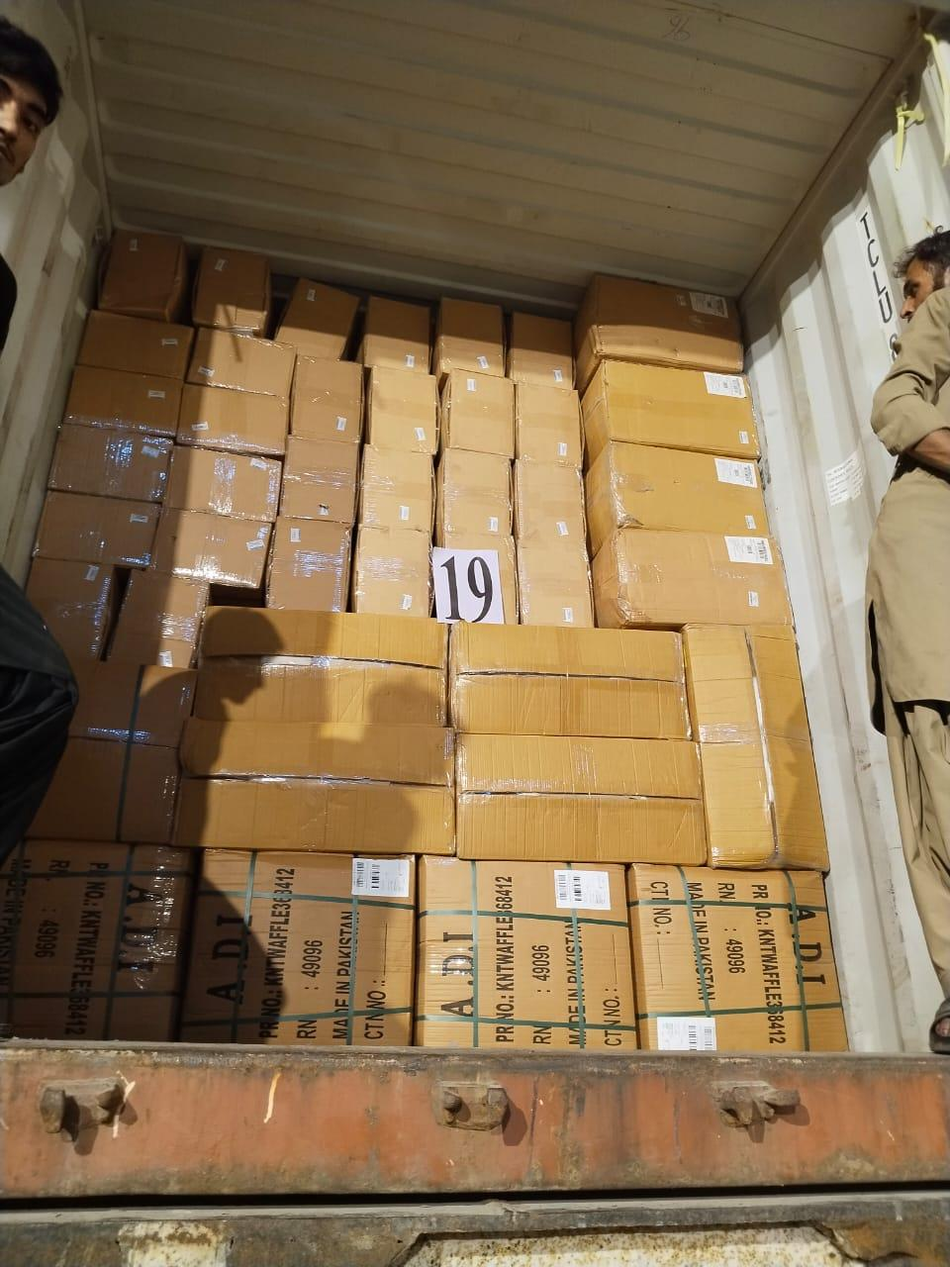carton: (181, 850, 416, 1046), (415, 858, 637, 1051), (627, 864, 847, 1053), (0, 840, 194, 1042), (176, 719, 454, 854), (0, 661, 196, 845), (684, 626, 829, 870), (456, 733, 707, 865), (195, 608, 448, 727), (449, 623, 691, 738), (586, 442, 768, 553), (593, 528, 792, 629), (574, 275, 743, 390), (582, 360, 759, 465), (26, 558, 122, 664), (107, 571, 209, 668), (48, 424, 172, 502), (35, 491, 159, 567), (63, 364, 190, 438), (154, 509, 271, 589), (164, 445, 281, 521), (266, 516, 352, 612), (77, 311, 194, 381), (176, 384, 289, 456), (99, 230, 187, 322), (186, 329, 296, 400), (351, 525, 431, 617), (440, 532, 519, 625), (435, 448, 513, 542), (280, 436, 359, 526), (193, 246, 271, 336), (514, 459, 587, 554), (358, 444, 434, 535), (517, 539, 594, 628), (439, 369, 515, 459), (276, 279, 358, 360), (365, 366, 438, 455), (290, 356, 363, 444), (432, 298, 505, 384), (515, 382, 584, 468), (358, 296, 431, 374), (507, 312, 574, 389)
